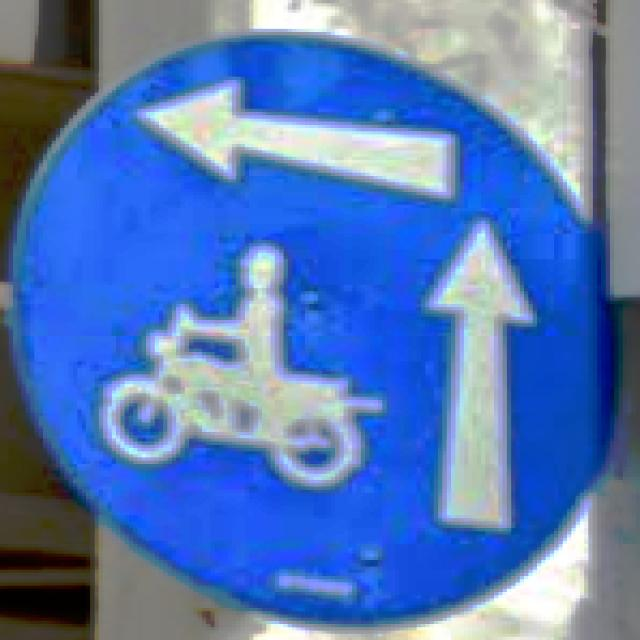twostageturn: (4, 26, 618, 627)
